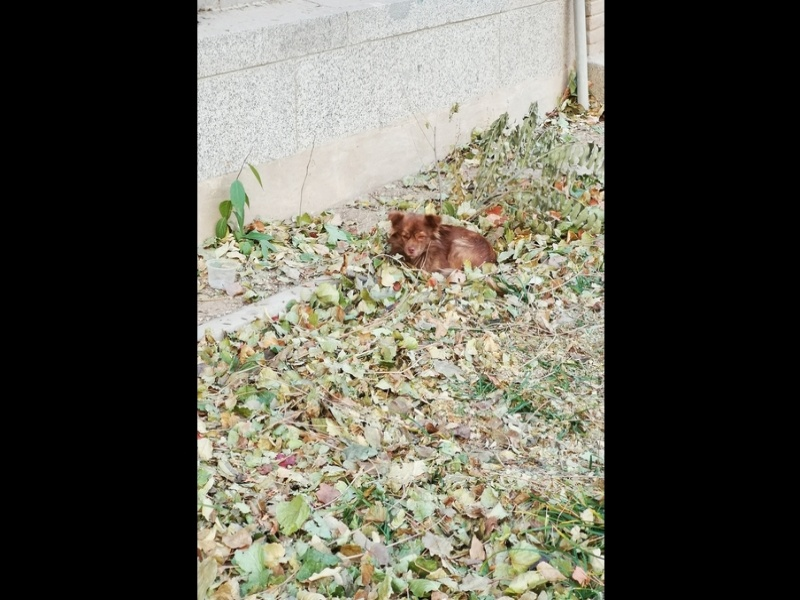dog: (384, 209, 510, 277)
